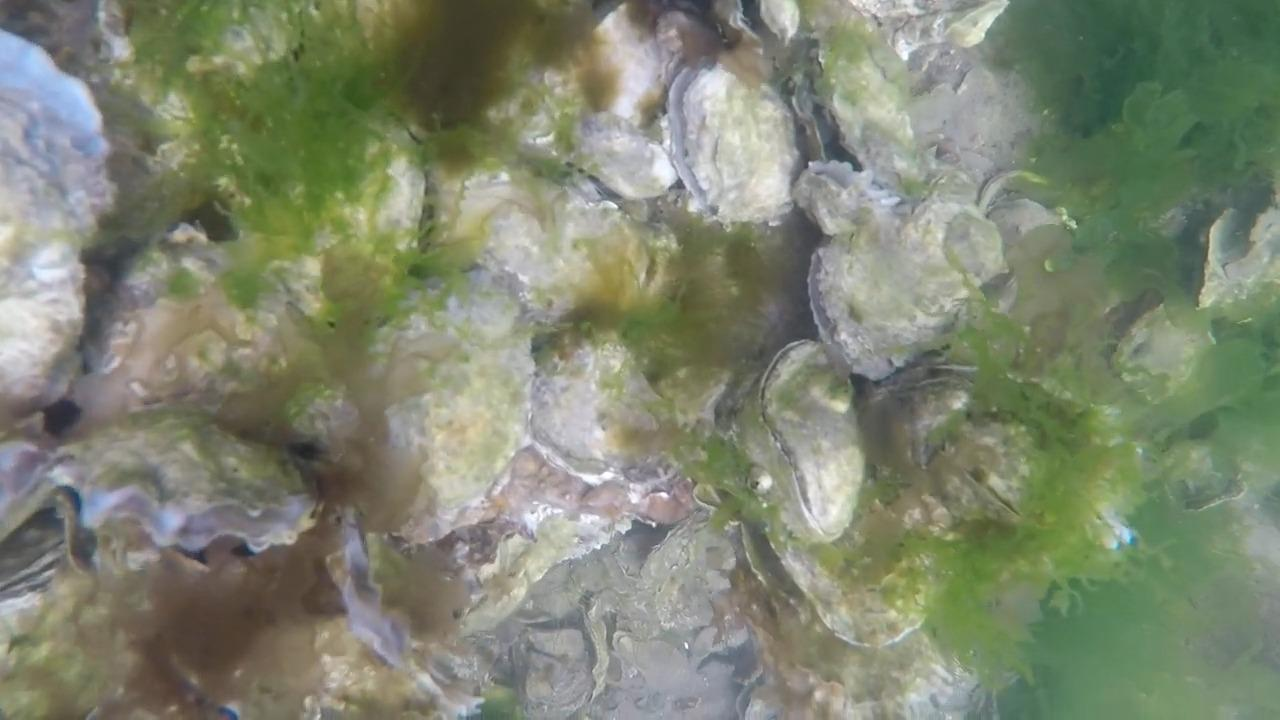Oyster: (360, 273, 535, 529), (2, 25, 115, 415), (49, 404, 319, 565), (66, 237, 274, 433), (48, 404, 321, 546), (806, 187, 1004, 379), (473, 163, 684, 331), (296, 541, 486, 719), (523, 330, 690, 497), (733, 338, 866, 541), (271, 123, 434, 285), (755, 513, 933, 659), (745, 339, 866, 544), (666, 58, 802, 230), (798, 16, 927, 193), (891, 41, 1042, 190), (905, 399, 1035, 529), (450, 518, 579, 636), (568, 5, 685, 130), (1151, 422, 1274, 518), (1107, 299, 1212, 401), (572, 108, 682, 204), (1194, 198, 1280, 316), (790, 160, 886, 242), (715, 0, 801, 48), (940, 0, 1012, 50)
